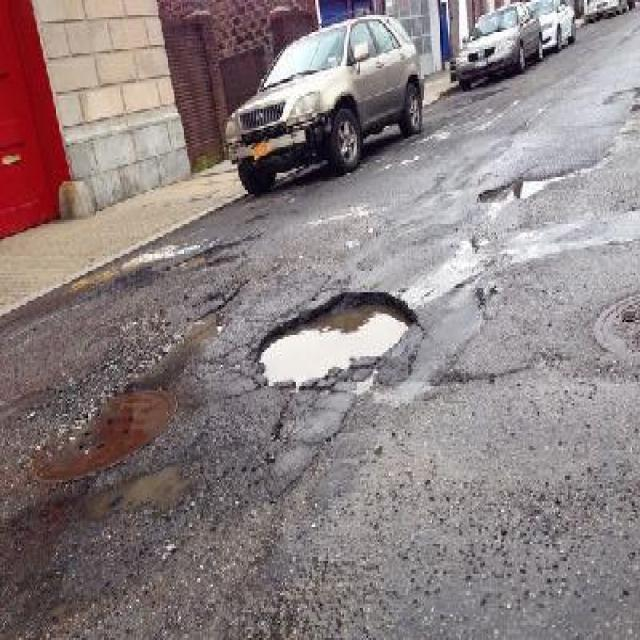buraco: (256, 286, 421, 392), (259, 299, 411, 383), (82, 456, 196, 520), (162, 230, 256, 273), (106, 469, 189, 513), (476, 173, 550, 207), (169, 244, 245, 273), (477, 179, 544, 204)
